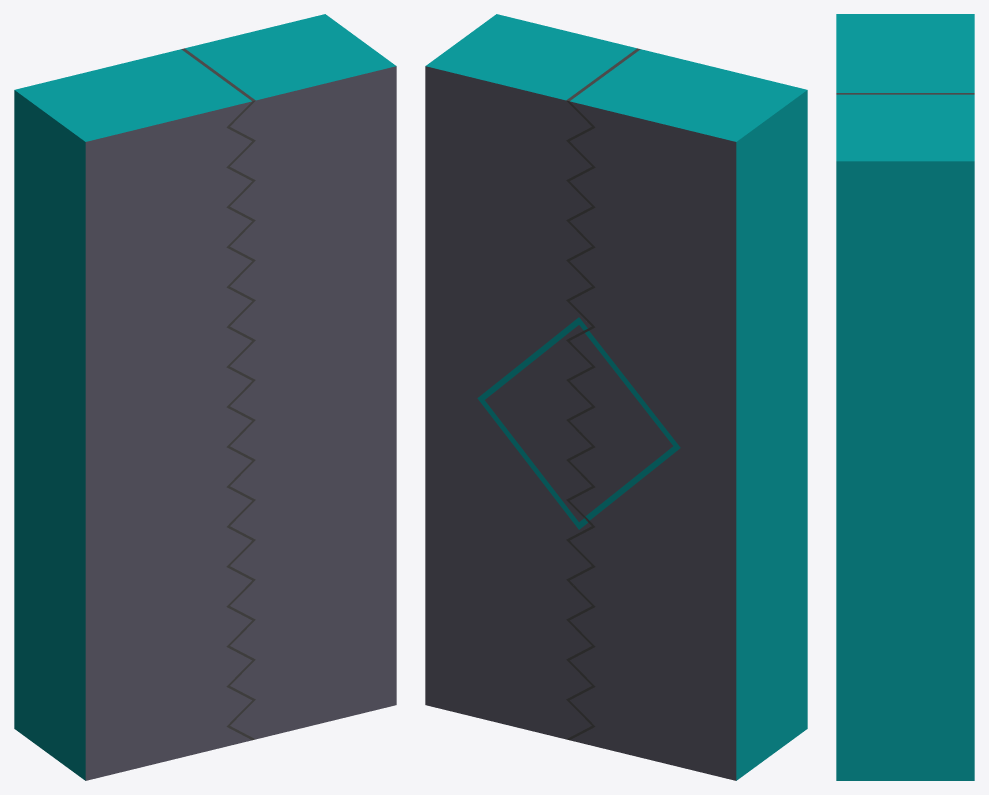
File: Dungeon Trap Door.fbx
3 views of the same model, side by side, from view 1: azimuth 30°, elevation 25°; view 2: azimuth 150°, elevation 25°; view 3: azimuth 270°, elevation 25° (orthographic). The views are drawn at different scales.
Parts seen in each view (by area): view 1: 3DGeom~1, 3DGeom~4, 3DGeom~3, 3DGeom~7, 3DGeom~5, 3DGeom~2; view 2: 3DGeom~1, 3DGeom~4, 3DGeom~3, 3DGeom~7, 3DGeom~2, 3DGeom~5; view 3: 3DGeom~7, 3DGeom~3, 3DGeom~5.
Part boxes in pixels (box(x1,y1,x2,y2)): 3DGeom~1: box(85, 101, 251, 780); 3DGeom~4: box(230, 66, 396, 739); 3DGeom~3: box(14, 49, 251, 780); 3DGeom~7: box(185, 14, 396, 100); 3DGeom~5: box(183, 48, 255, 739); 3DGeom~2: box(181, 49, 253, 740); 3DGeom~1: box(570, 101, 736, 780); 3DGeom~4: box(425, 66, 591, 739); 3DGeom~3: box(570, 49, 807, 780); 3DGeom~7: box(425, 14, 636, 529); 3DGeom~2: box(568, 49, 640, 740); 3DGeom~5: box(566, 48, 638, 739); 3DGeom~7: box(836, 94, 974, 780); 3DGeom~3: box(836, 14, 974, 92); 3DGeom~5: box(836, 93, 974, 94).
Bounding box in the file's own units: 120 × 235 × 47.5.
